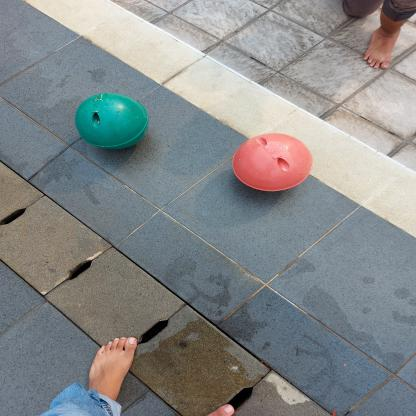green_buoy: (73, 92, 153, 153)
red_buoy: (228, 130, 316, 192)
